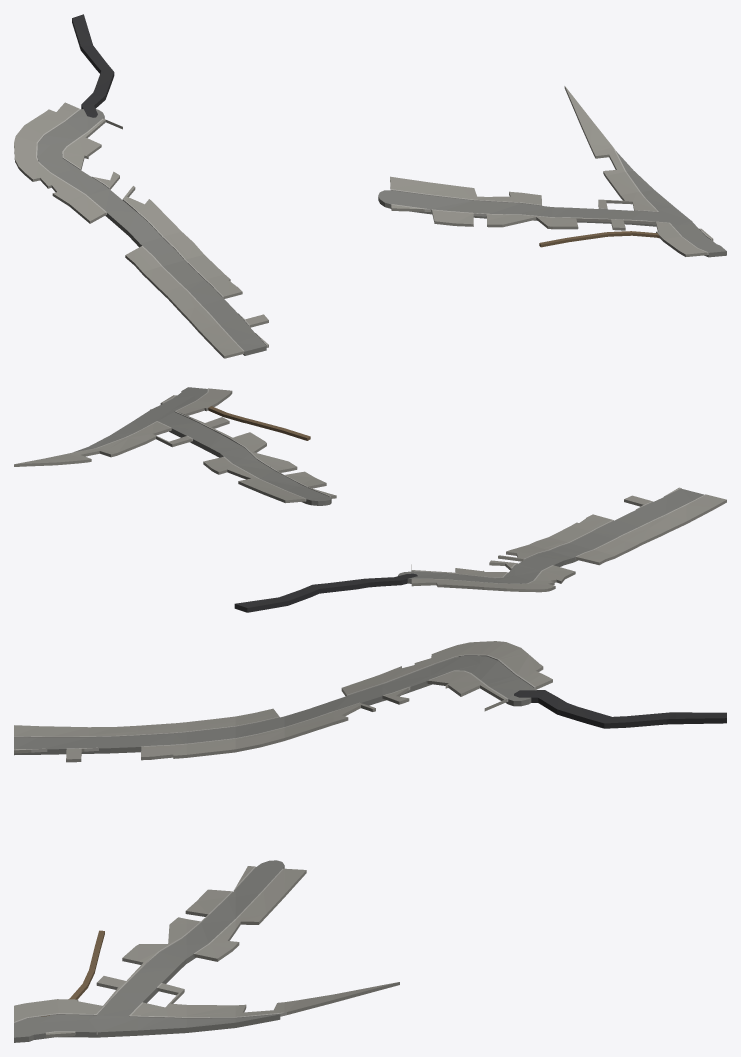
3 renders of one model, top to bottom at view 1: azimuth 30°, elevation 25°; view 2: azimuth 150°, elevation 25°; view 3: azimuth 270°, elevation 25°, orthographic. The views are drawn at different scales.
Bounding box in the file's own units: 146 × 28.36 × 146.
